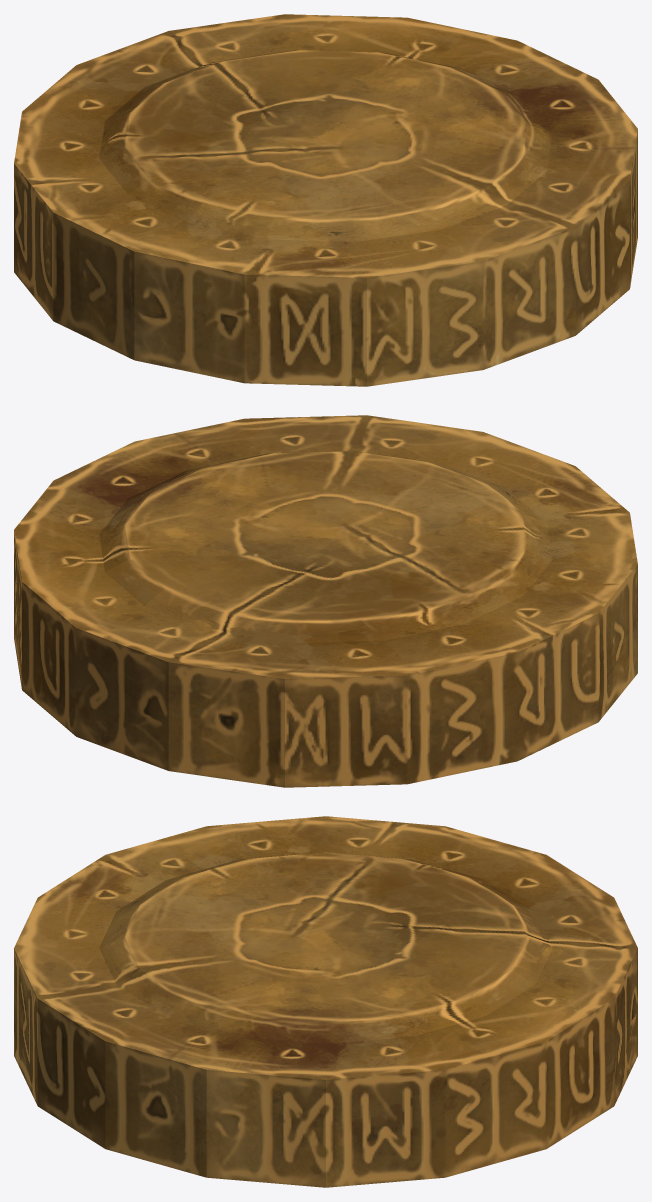
File: Gold_Coin.obj
3 renders of one model, top to bottom at view 1: azimuth 30°, elevation 25°; view 2: azimuth 150°, elevation 25°; view 3: azimuth 270°, elevation 25°, orthographic.
Visible parts, largest first — view 1: Gold_Coin; view 2: Gold_Coin; view 3: Gold_Coin.
Part boxes in pixels (box(x1,y1,x2,y2)): Gold_Coin: box(14, 14, 637, 386); Gold_Coin: box(14, 415, 637, 787); Gold_Coin: box(14, 816, 637, 1187).
Size of the model in its own units: 0.045 by 0.0103 by 0.045.
1 material, 1 textured.
